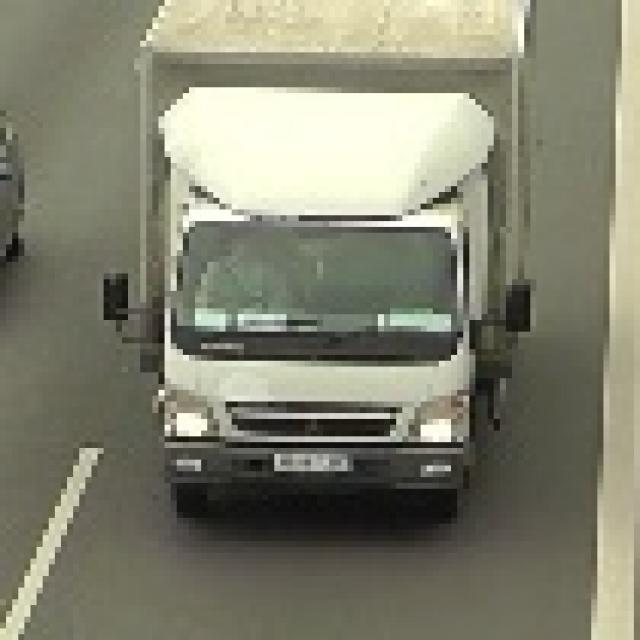truck: (103, 0, 524, 512)
